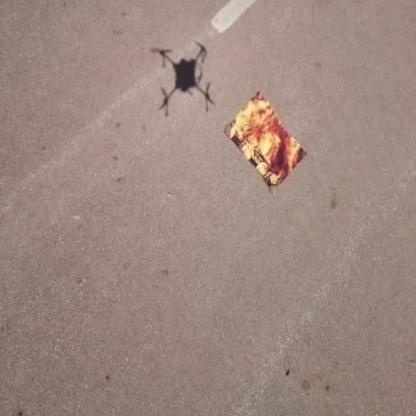fire-poster: (223, 89, 307, 194)
